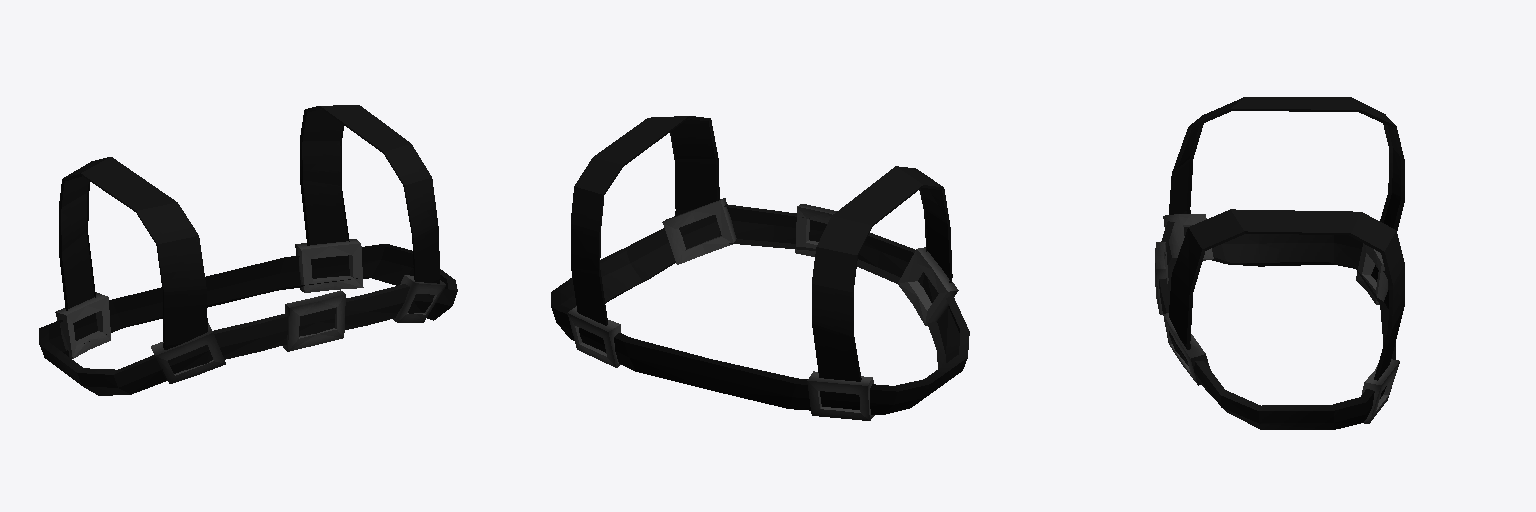
3 views of the same model, side by side, from view 1: azimuth 30°, elevation 25°; view 2: azimuth 150°, elevation 25°; view 3: azimuth 270°, elevation 25° (orthographic).
Parts seen in each view (by area): view 1: harness; view 2: harness; view 3: harness.
Boxes of the visible parts, x1,y1,x2,y2 form: harness: [39, 105, 457, 395]; harness: [551, 116, 969, 420]; harness: [1155, 97, 1404, 429].
Bounding box in the file's own units: 1.98 × 0.968 × 1.14.
1 materials, 1 textured.